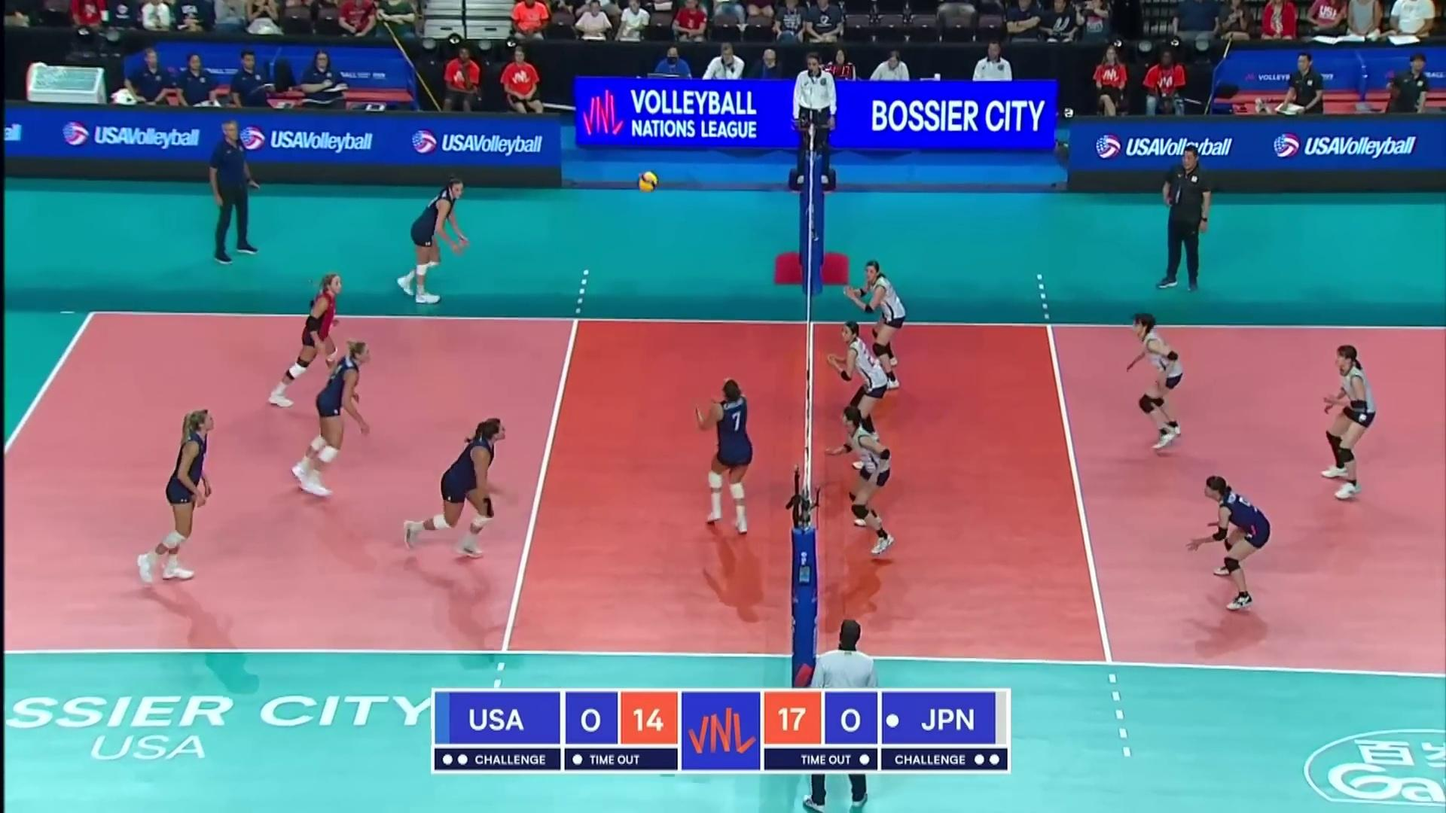player: (403, 418, 507, 556), (139, 407, 214, 586), (289, 343, 371, 500), (272, 273, 362, 410), (1191, 474, 1274, 609), (695, 379, 756, 535), (395, 178, 467, 307), (835, 405, 893, 560), (830, 326, 889, 472), (1127, 314, 1189, 451), (1321, 347, 1376, 498), (845, 261, 906, 389)
refree: (801, 619, 876, 811), (793, 53, 837, 184)
